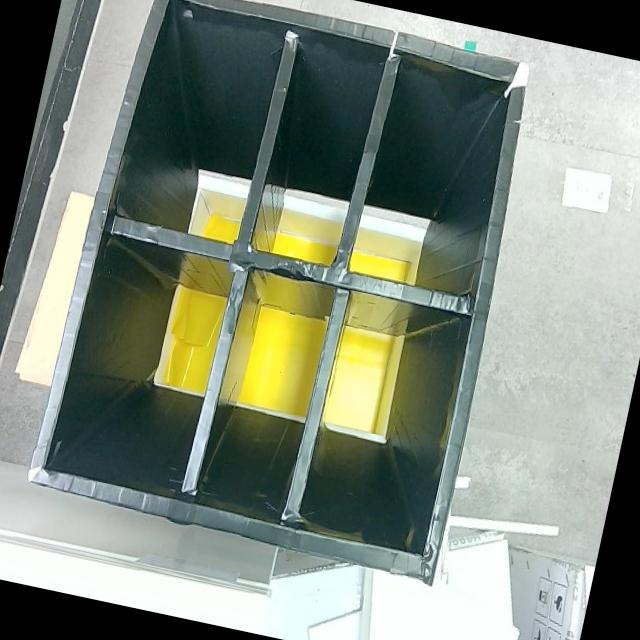box: (23, 0, 546, 582)
